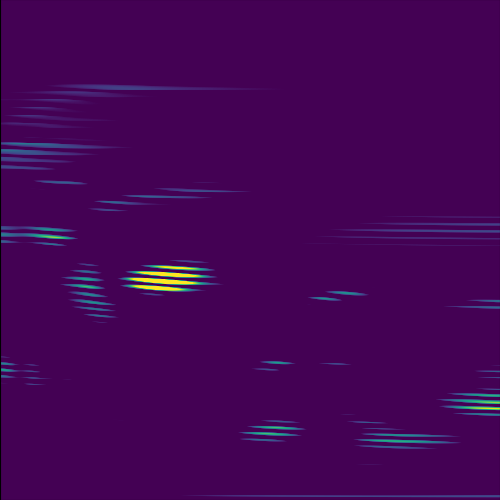semblance: (120, 258, 221, 296), (432, 388, 500, 422)
